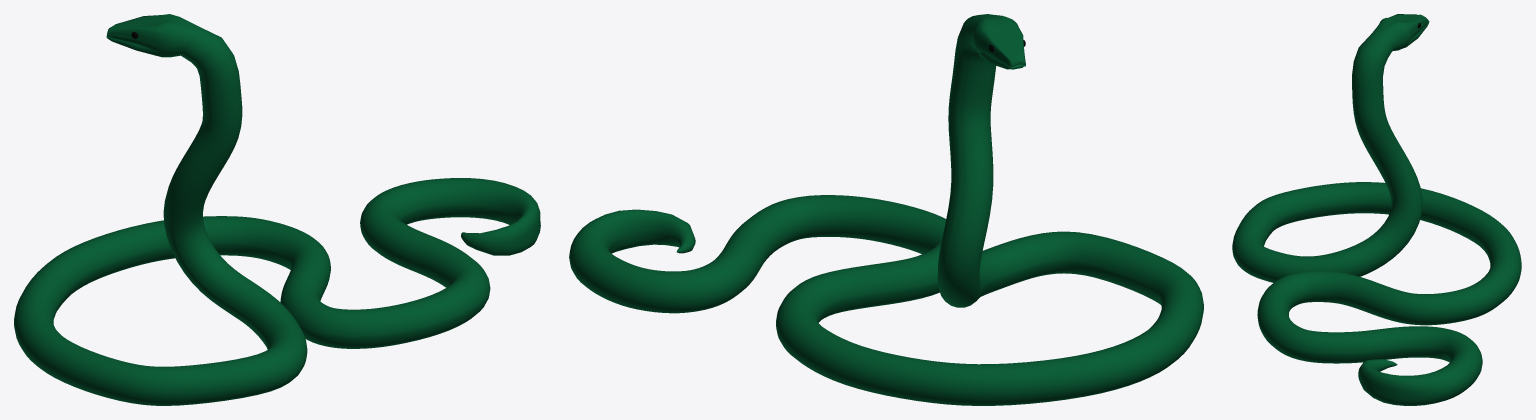
The model's file is snake.glb.
The picture shows the model from 3 angles, left to right: view 1: azimuth 30°, elevation 25°; view 2: azimuth 150°, elevation 25°; view 3: azimuth 270°, elevation 25°; orthographic projection. The views are drawn at different scales.
Parts seen in each view (by area): view 1: pCube2; view 2: pCube2; view 3: pCube2.
Part boxes in pixels (x1,y1,x2,y2): pCube2: (14,14,540,405); pCube2: (569,14,1203,405); pCube2: (1232,14,1521,405).
Bounding box in the file's own units: 15.38 × 8.57 × 9.21.
